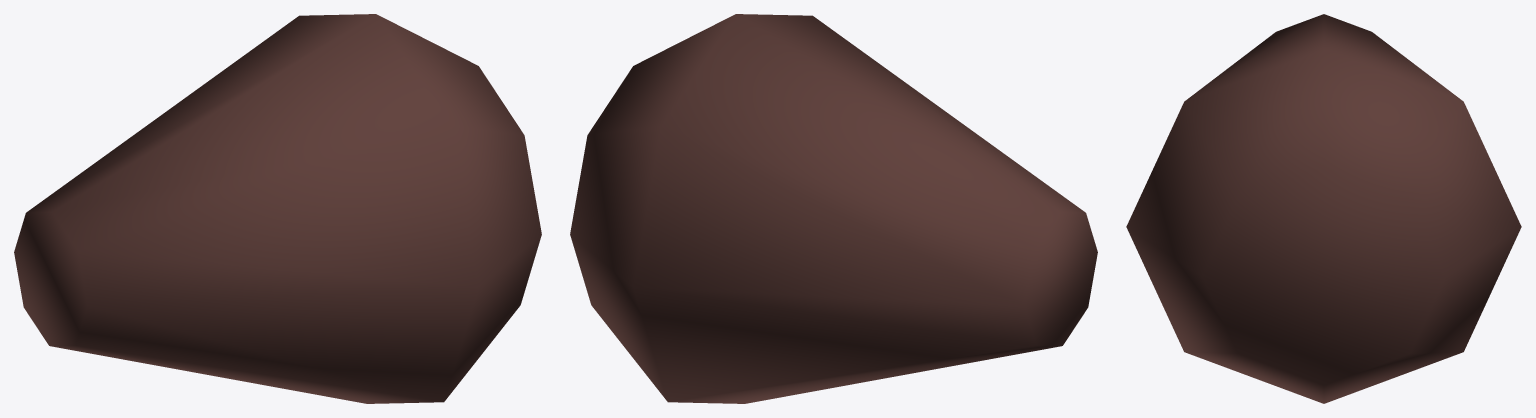
The model's file is Spike.fbx.
The picture shows the model from 3 angles, left to right: view 1: azimuth 30°, elevation 25°; view 2: azimuth 150°, elevation 25°; view 3: azimuth 270°, elevation 25°; orthographic projection. The views are drawn at different scales.
Visible parts, largest first — view 1: Spike; view 2: Spike; view 3: Spike.
Part boxes in pixels (x1,y1,x2,y2): Spike: (14, 14, 541, 403); Spike: (570, 14, 1097, 403); Spike: (1126, 14, 1521, 403).
Size of the model in its own units: 54.96 by 47.41 by 47.43.
